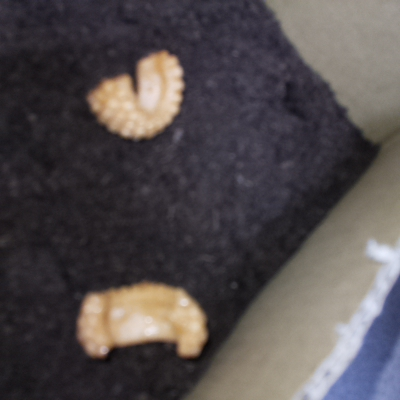eggs: (73, 278, 216, 365), (85, 44, 188, 143)
